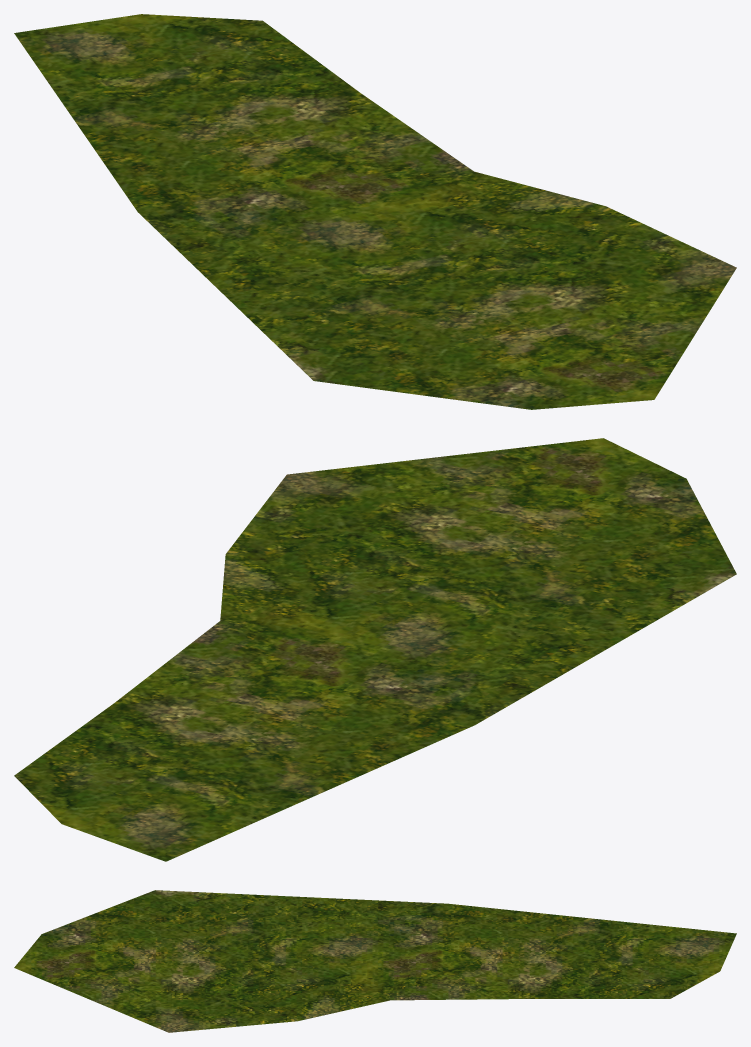
File: OVERHILL_A_01_LINE24.fbx
3 views of the same model, one above another, from view 1: azimuth 30°, elevation 25°; view 2: azimuth 150°, elevation 25°; view 3: azimuth 270°, elevation 25° (orthographic). The views are drawn at different scales.
Parts seen in each view (by area): view 1: OVERHILL_A_01_LINE24; view 2: OVERHILL_A_01_LINE24; view 3: OVERHILL_A_01_LINE24.
Part boxes in pixels (left/top/right/bottom): OVERHILL_A_01_LINE24: left=14, top=14, right=736, bottom=409; OVERHILL_A_01_LINE24: left=14, top=438, right=736, bottom=861; OVERHILL_A_01_LINE24: left=14, top=890, right=736, bottom=1032.
Bounding box in the file's own units: 19477 × 0.00679 × 41698.
Materials: 1 (1 with a texture image).
